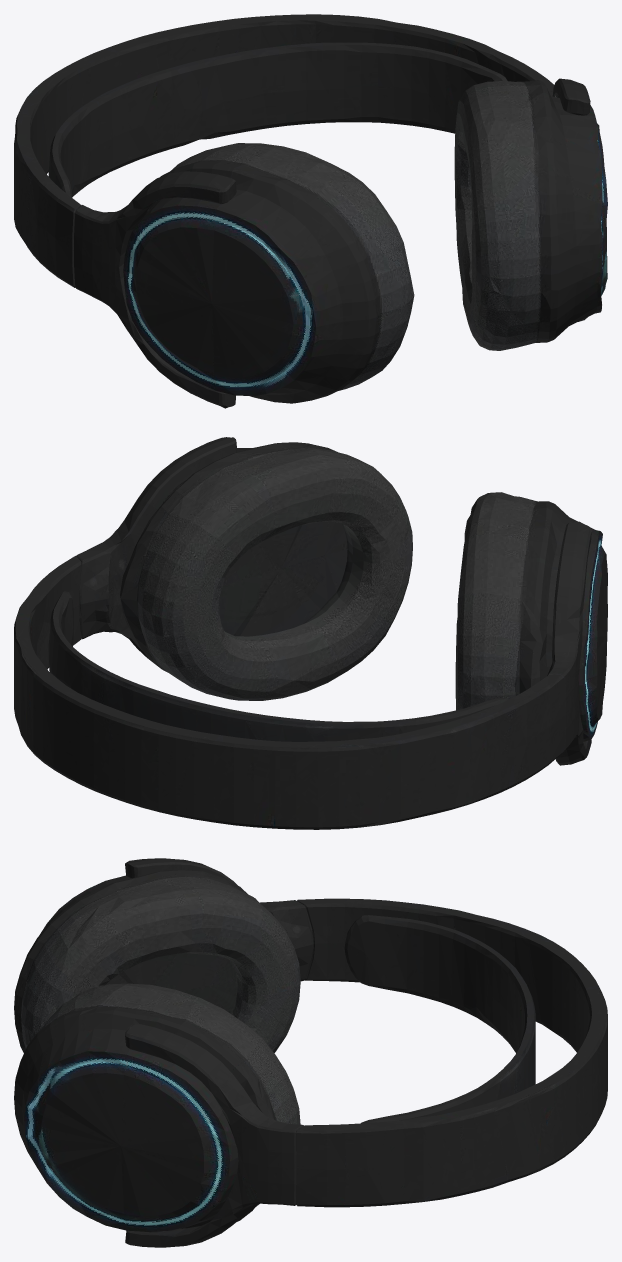
The model's file is ewm_stheadset.glb.
The picture shows the model from 3 angles, top to bottom: view 1: azimuth 30°, elevation 25°; view 2: azimuth 150°, elevation 25°; view 3: azimuth 270°, elevation 25°; orthographic projection. The views are drawn at different scales.
Visible parts, largest first — view 1: ewm_stheadset; view 2: ewm_stheadset; view 3: ewm_stheadset.
Boxes of the visible parts, bbox=[...] form: ewm_stheadset: bbox=[14, 14, 607, 408]; ewm_stheadset: bbox=[14, 437, 607, 829]; ewm_stheadset: bbox=[14, 858, 607, 1247].
Size of the model in its own units: 0.1865 by 0.0827 by 0.2.
Materials: 1 (1 with a texture image).
